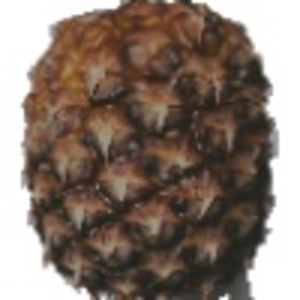abacaxi: (14, 2, 278, 294)
